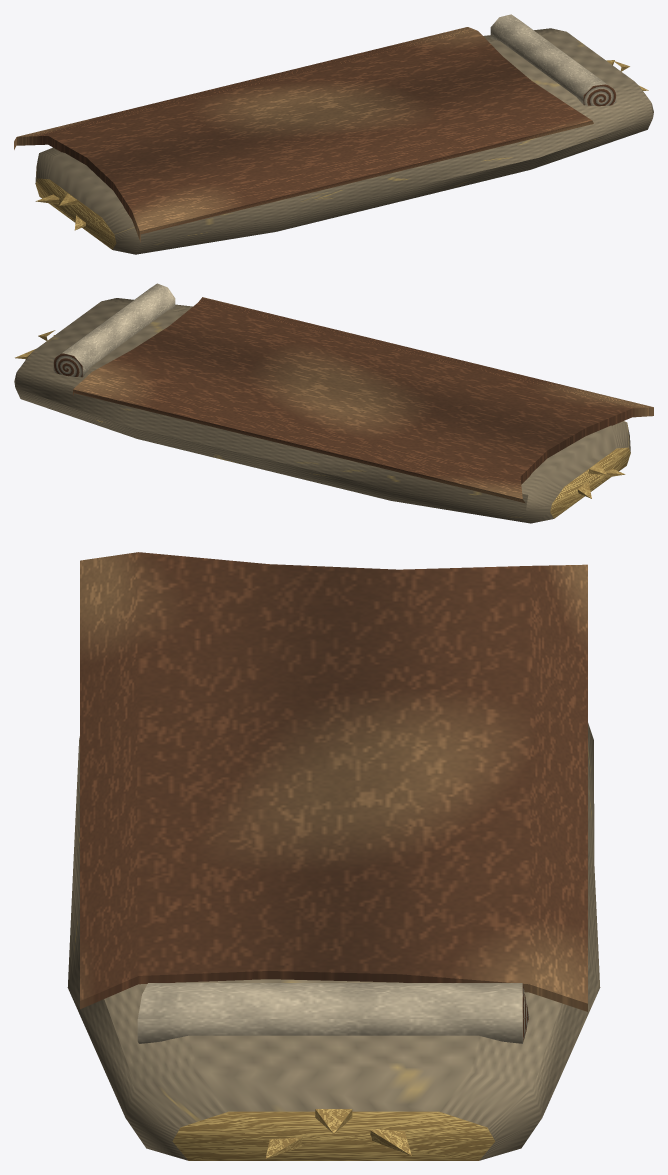
Rendered from bed_straw.glb.
The picture shows the model from 3 angles, top to bottom: view 1: azimuth 30°, elevation 25°; view 2: azimuth 150°, elevation 25°; view 3: azimuth 270°, elevation 25°; orthographic projection. The views are drawn at different scales.
Parts seen in each view (by area): view 1: bed_straw; view 2: bed_straw; view 3: bed_straw.
Part boxes in pixels (<box>): bed_straw: <box>14,14,653,254</box>; bed_straw: <box>14,283,653,523</box>; bed_straw: <box>67,552,600,1160</box>.
Size of the model in its own units: 2.05 by 0.1912 by 0.8175.
1 material, 1 textured.
